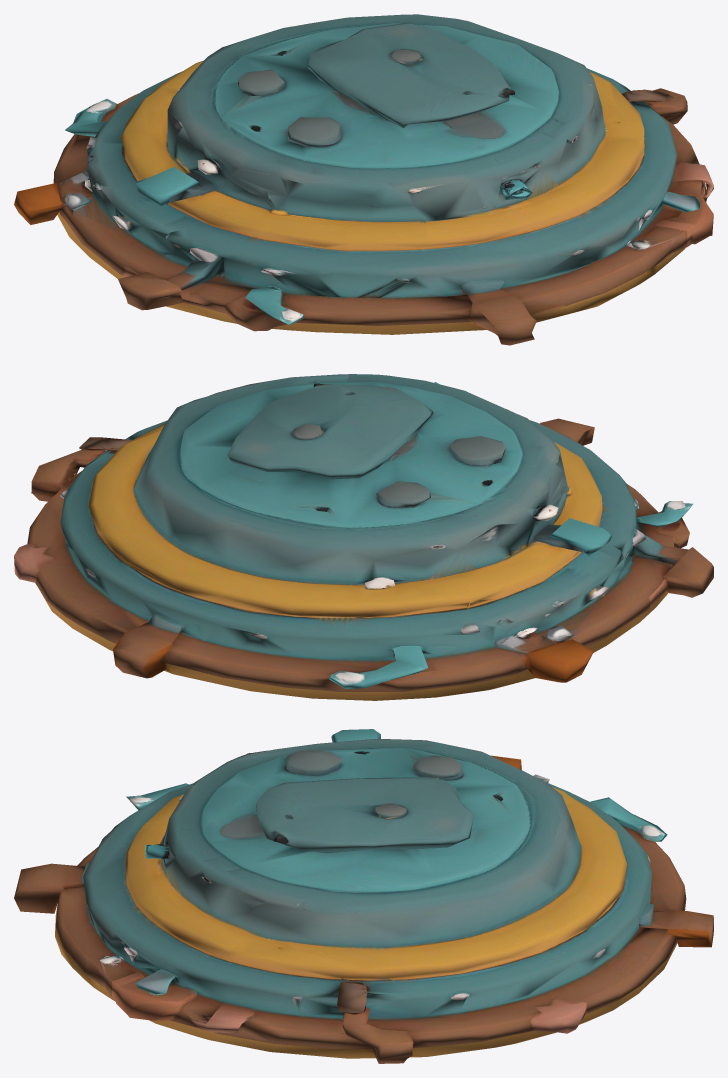
File: utility_landmine_3000_low.glb
The picture shows the model from 3 angles, top to bottom: view 1: azimuth 30°, elevation 25°; view 2: azimuth 150°, elevation 25°; view 3: azimuth 270°, elevation 25°; orthographic projection.
Parts seen in each view (by area): view 1: tripo_node_f6754ce8-82e9-4824-bb01-f07709a723da; view 2: tripo_node_f6754ce8-82e9-4824-bb01-f07709a723da; view 3: tripo_node_f6754ce8-82e9-4824-bb01-f07709a723da.
Boxes of the visible parts, <box> form: tripo_node_f6754ce8-82e9-4824-bb01-f07709a723da: <box>14,14,713,345</box>; tripo_node_f6754ce8-82e9-4824-bb01-f07709a723da: <box>14,374,713,700</box>; tripo_node_f6754ce8-82e9-4824-bb01-f07709a723da: <box>14,729,713,1063</box>.
Size of the model in its own units: 0.9805 by 0.2108 by 0.9807.
Materials: 1 (1 with a texture image).
